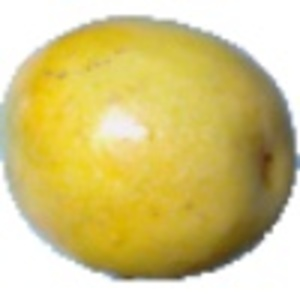maracujá: (1, 15, 300, 284)
